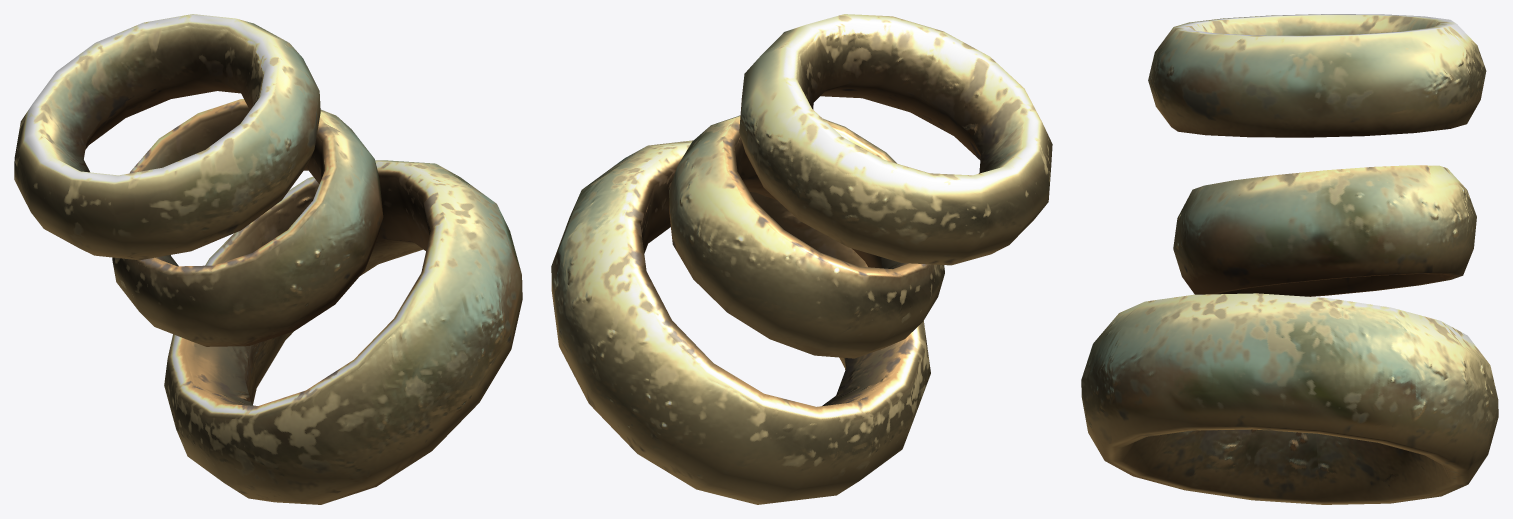
Rendered from sm_yun_accessories_02.gltf.
The picture shows the model from 3 angles, left to right: view 1: azimuth 30°, elevation 25°; view 2: azimuth 150°, elevation 25°; view 3: azimuth 270°, elevation 25°; orthographic projection. The views are drawn at different scales.
Parts seen in each view (by area): view 1: sm_yun_accessories_02; view 2: sm_yun_accessories_02; view 3: sm_yun_accessories_02.
Part boxes in pixels (bbox=[...]): sm_yun_accessories_02: bbox=[14, 14, 522, 504]; sm_yun_accessories_02: bbox=[551, 14, 1052, 504]; sm_yun_accessories_02: bbox=[1081, 14, 1498, 504].
Size of the model in its own units: 4.5 by 4.32 by 3.43.
Materials: 1 (1 with a texture image).
